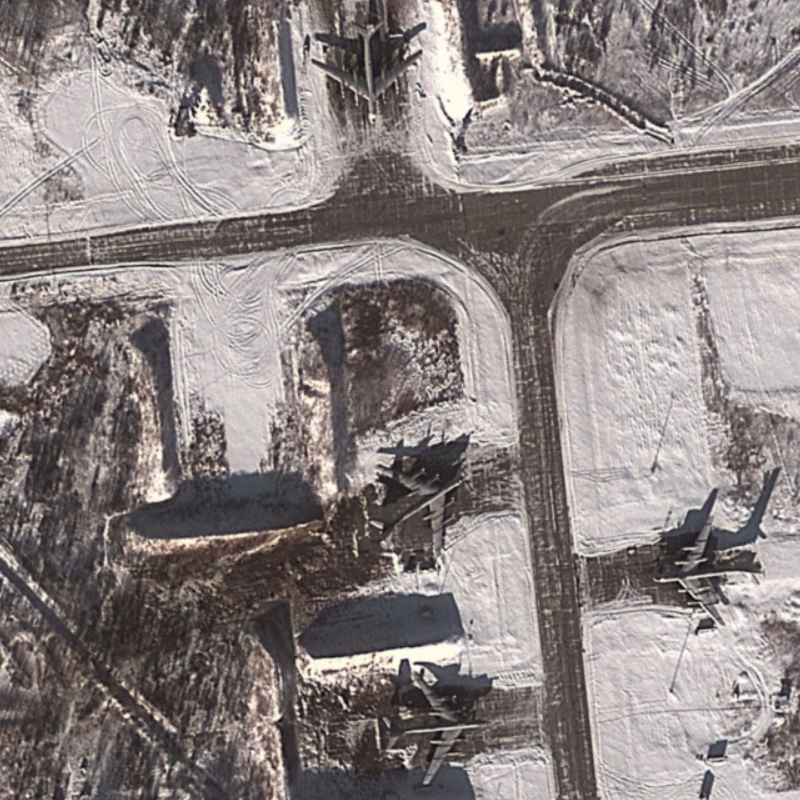A17: (378, 669, 492, 789), (309, 19, 424, 127), (651, 521, 766, 628), (366, 463, 466, 561)
